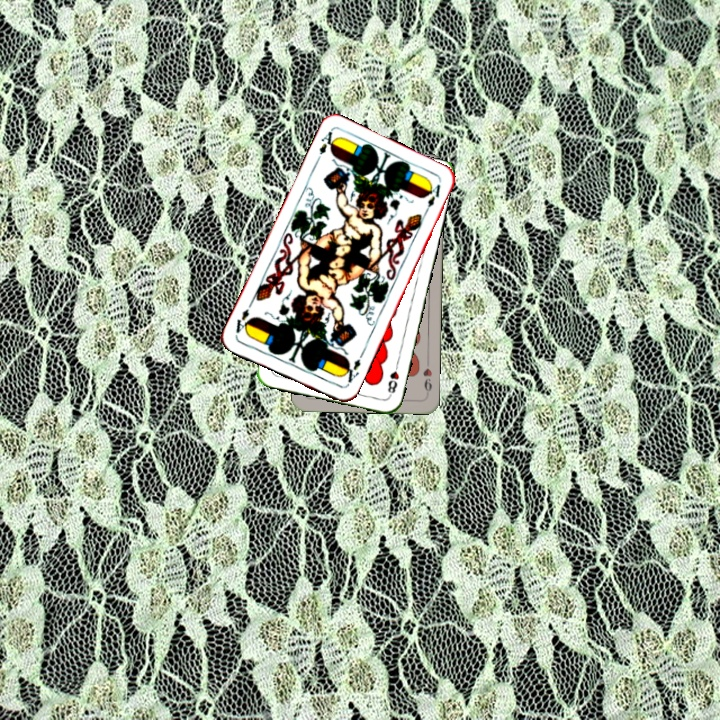EA: (312, 127, 339, 166), (338, 354, 363, 389)
H8: (383, 358, 401, 399)
H9: (419, 357, 434, 398)
